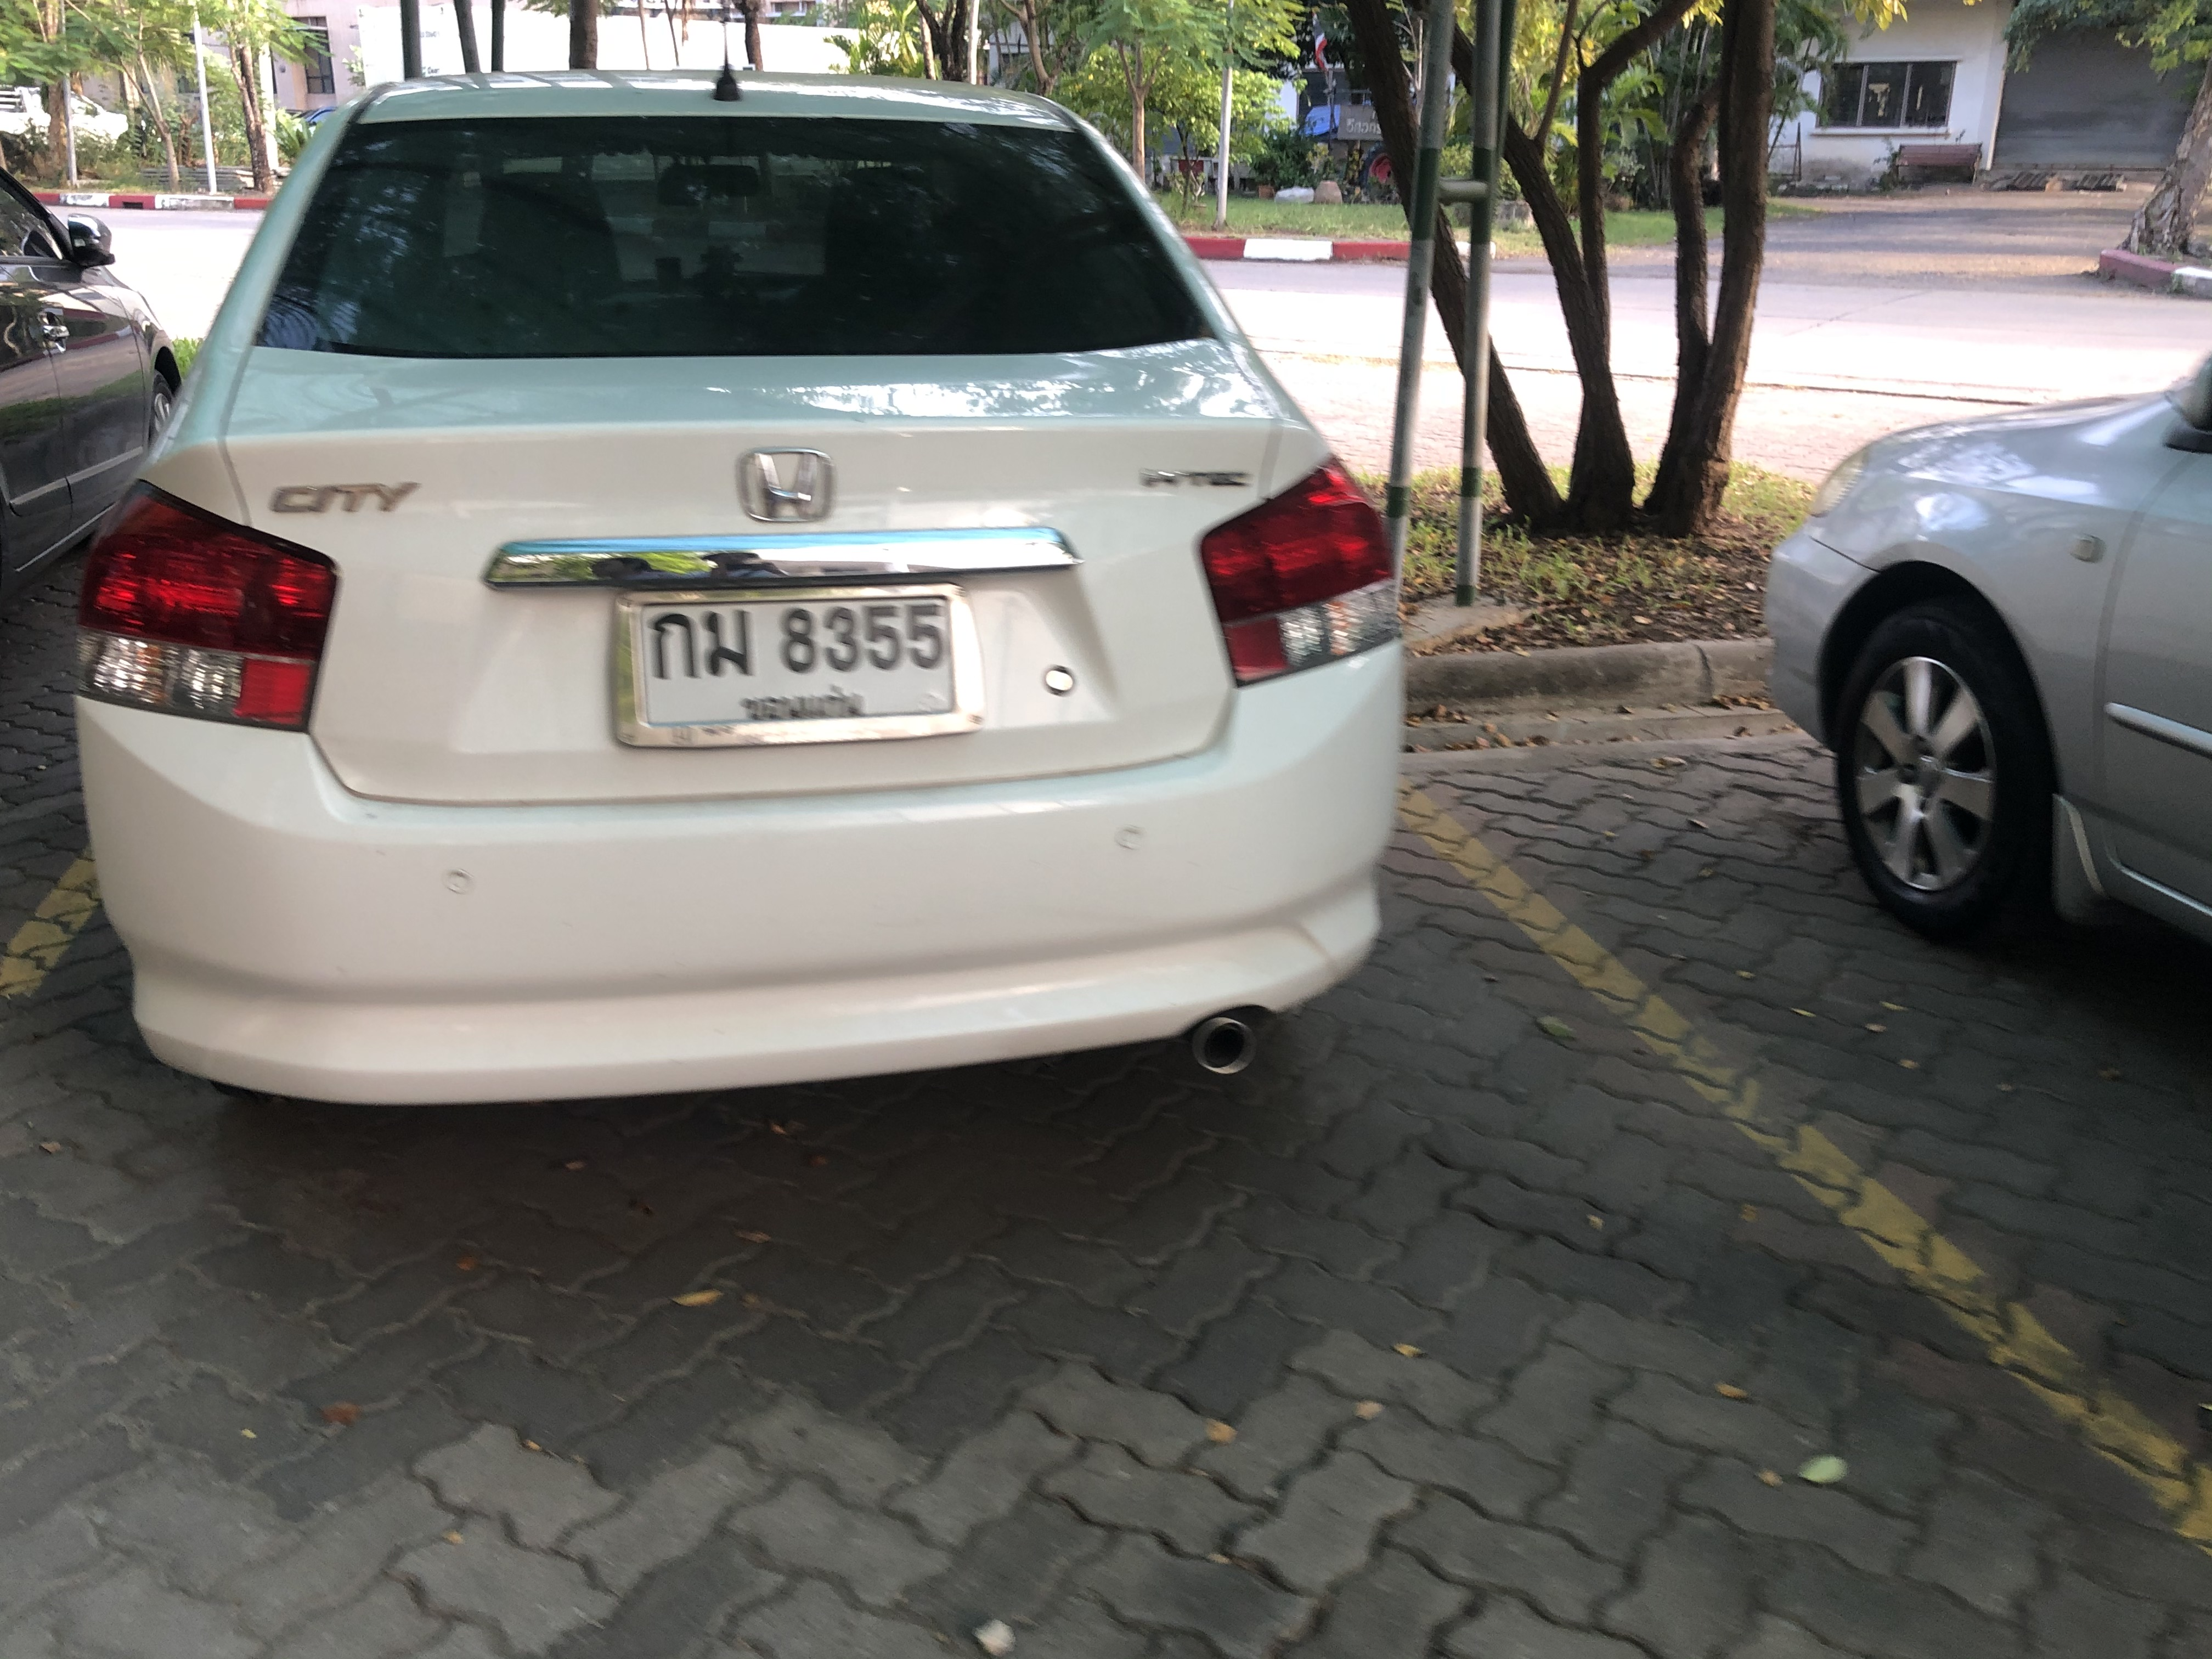in: (641, 605, 958, 720)
out: (603, 579, 989, 744)
